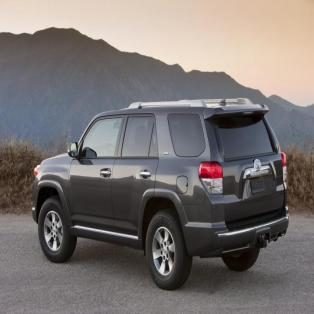Auto: (31, 96, 290, 291)
